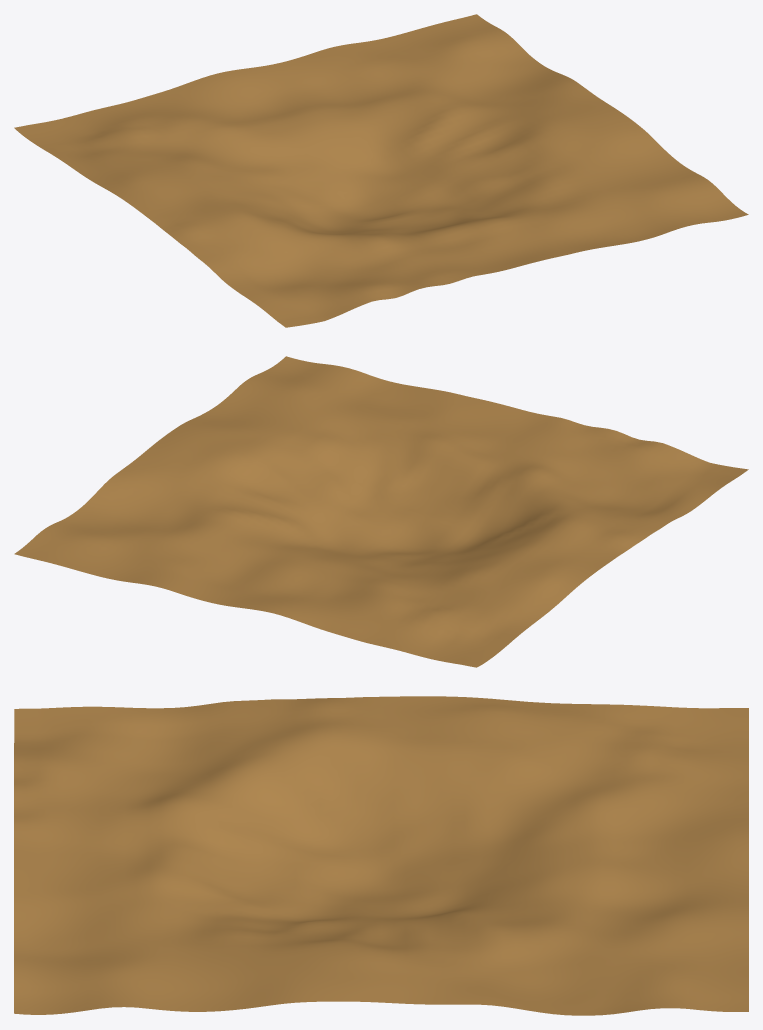
File: terre_bosse_neg4.fbx
The picture shows the model from 3 angles, top to bottom: view 1: azimuth 30°, elevation 25°; view 2: azimuth 150°, elevation 25°; view 3: azimuth 270°, elevation 25°; orthographic projection. The views are drawn at different scales.
Parts seen in each view (by area): view 1: terre_bosse_neg4; view 2: terre_bosse_neg4; view 3: terre_bosse_neg4.
Part boxes in pixels (left/top/right/bottom): terre_bosse_neg4: left=14, top=14, right=748, bottom=327; terre_bosse_neg4: left=14, top=356, right=748, bottom=667; terre_bosse_neg4: left=14, top=696, right=748, bottom=1015.
Bounding box in the file's own units: 708 × 65.21 × 720.
